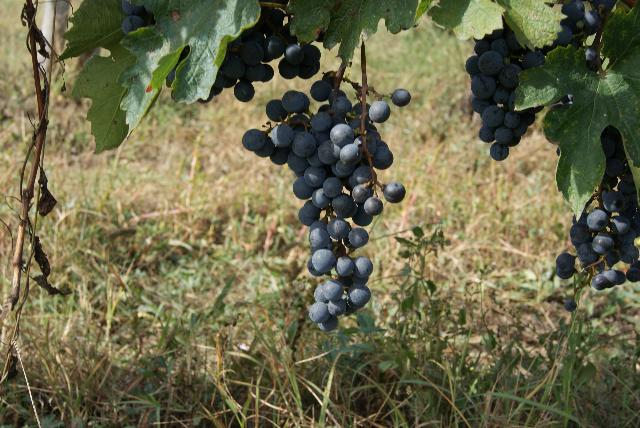grapes: (242, 81, 392, 331)
